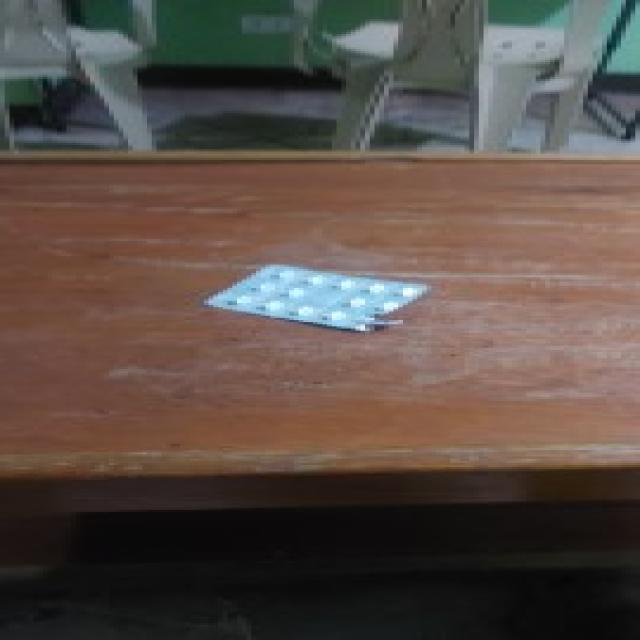Cacat: (201, 261, 441, 338)
Kemasan: (350, 310, 414, 335)
